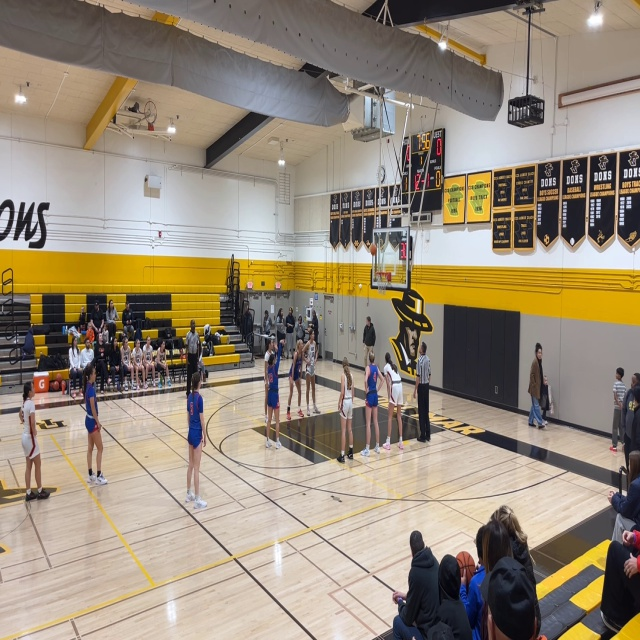Basketball: (369, 243, 377, 255)
